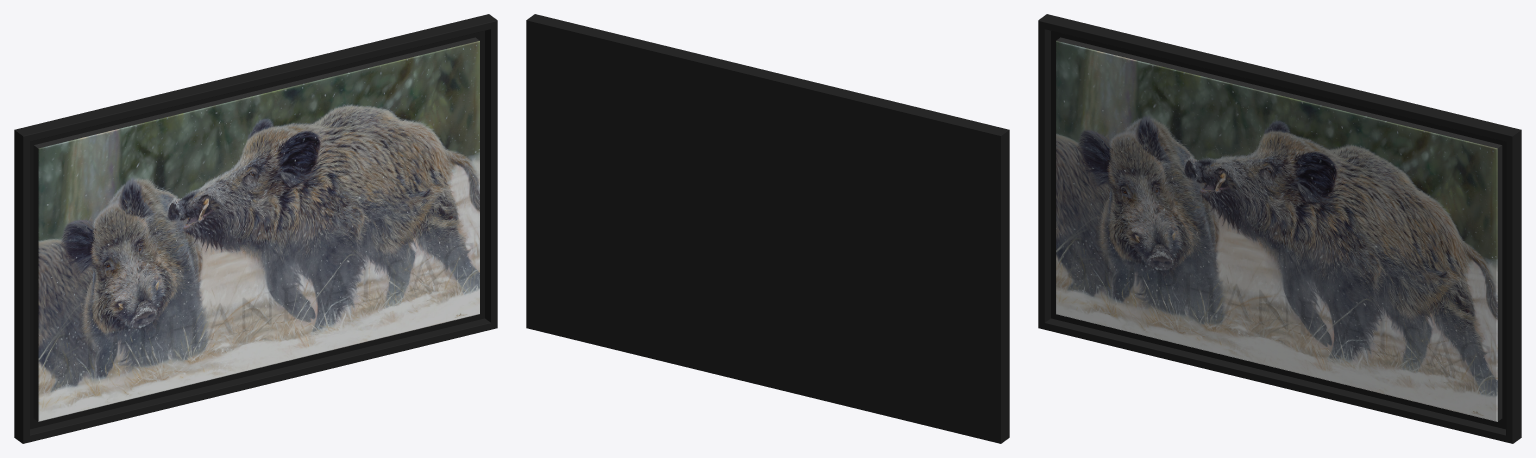
File: tableau-peinture-sangliers-neige-grand-78c534ba.glb
3 views of the same model, side by side, from view 1: azimuth 30°, elevation 25°; view 2: azimuth 150°, elevation 25°; view 3: azimuth 330°, elevation 25° (orthographic).
Parts seen in each view (by area): view 1: Painting; view 2: Painting; view 3: Painting.
Part boxes in pixels (box(x1,y1,x2,y2)): Painting: box(14, 14, 497, 443); Painting: box(526, 14, 1009, 443); Painting: box(1038, 14, 1521, 443).
Bounding box in the file's own units: 1.24 × 0.766 × 0.04.
Materials: 4 (2 with a texture image).
